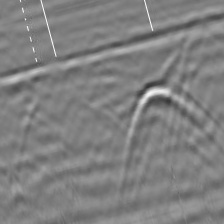Utility: (118, 79, 224, 178)
